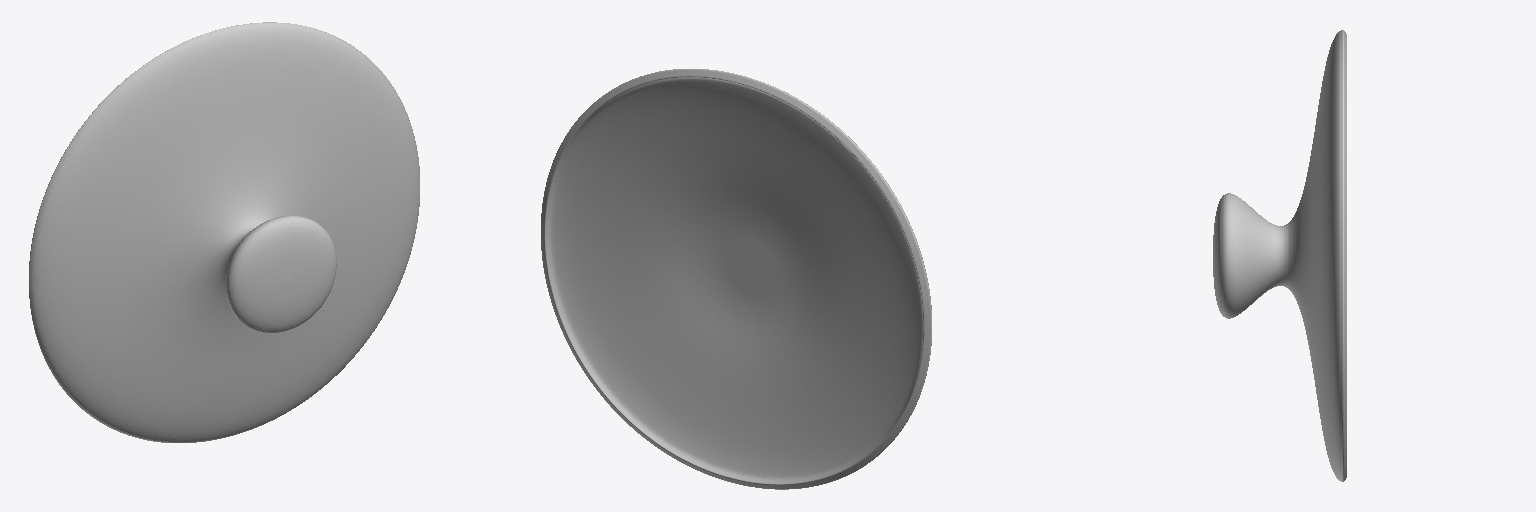
The model's file is FTeapot_Lid.obj.
3 views of the same model, side by side, from view 1: azimuth 30°, elevation 25°; view 2: azimuth 150°, elevation 25°; view 3: azimuth 270°, elevation 25° (orthographic).
Parts seen in each view (by area): view 1: FTeapot_Lid; view 2: FTeapot_Lid; view 3: FTeapot_Lid.
Part boxes in pixels (bbox=[...]): FTeapot_Lid: bbox=[29, 22, 419, 442]; FTeapot_Lid: bbox=[541, 69, 931, 489]; FTeapot_Lid: bbox=[1213, 30, 1346, 481].
Size of the model in its own units: 20.03 by 20.03 by 5.97.